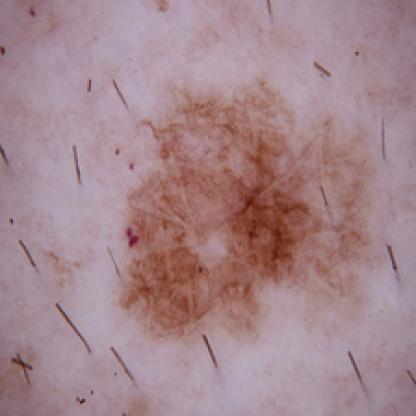Skin_Cancer-Malignant: (120, 84, 380, 343)
